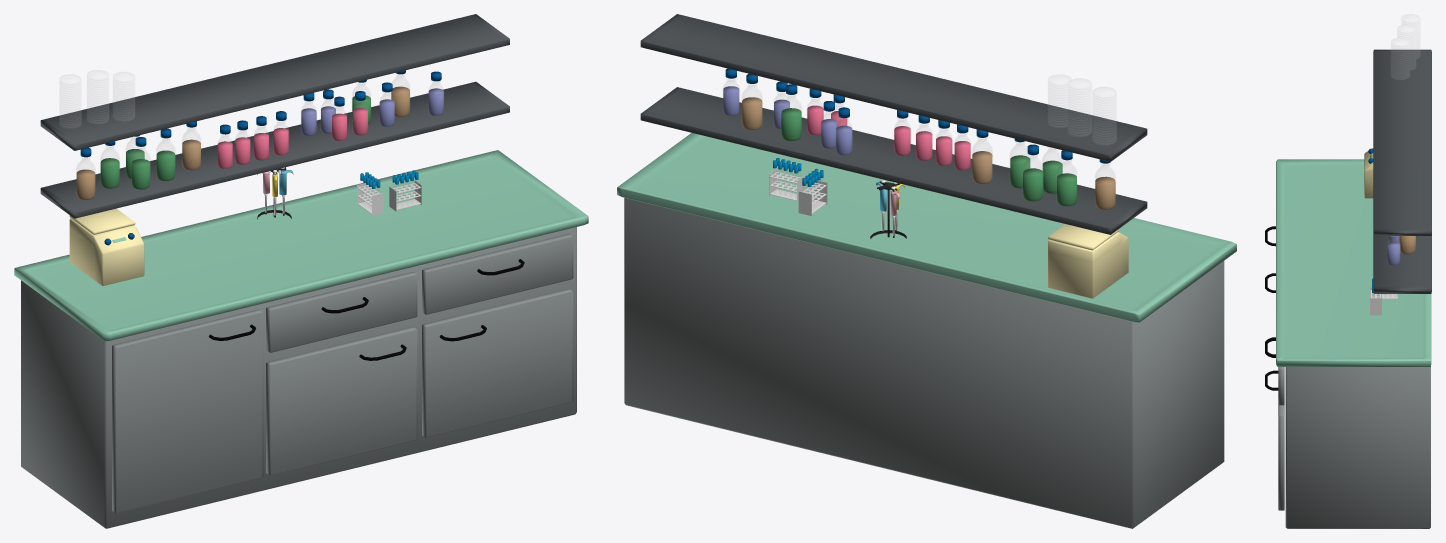
File: lab_bench.glb
3 views of the same model, side by side, from view 1: azimuth 30°, elevation 25°; view 2: azimuth 150°, elevation 25°; view 3: azimuth 270°, elevation 25° (orthographic). The views are drawn at different scales.
Visible parts, largest first — view 1: Torus.000, Torus.004, Torus.002, Cube, Circle.003, Circle.011, Torus.003, Circle.012, inhalt.002, inhalt.005, Icosphere.002, inhalt (+5 smaller); view 2: Torus.000, Torus.004, Torus.002, Cube, Circle.003, Circle.011, Circle.012, Icosphere.002, inhalt.003, inhalt.006, inhalt.007, inhalt.004 (+6 smaller); view 3: Torus.000, Torus.004, Torus.002, Circle.012, Cube, Torus.003, Circle.003, inhalt_klein.001, inhalt.007, Plane.004, Circle.011.
Boxes of the visible parts, <box> form: Torus.000: <box>21,227,576,528</box>; Torus.004: <box>14,150,588,341</box>; Torus.002: <box>40,14,509,218</box>; Cube: <box>69,208,144,285</box>; Circle.003: <box>87,70,108,123</box>; Circle.011: <box>60,75,80,128</box>; Torus.003: <box>209,259,524,360</box>; Circle.012: <box>113,72,134,120</box>; inhalt.002: <box>131,137,150,189</box>; inhalt.005: <box>156,128,175,180</box>; Icosphere.002: <box>257,167,293,219</box>; inhalt: <box>76,147,95,199</box>; Torus.000: <box>624,198,1224,528</box>; Torus.004: <box>617,133,1236,322</box>; Torus.002: <box>640,14,1147,234</box>; Cube: <box>1048,224,1128,298</box>; Circle.003: <box>1068,79,1091,136</box>; Circle.011: <box>1093,87,1116,144</box>; Circle.012: <box>1048,75,1070,127</box>; Icosphere.002: <box>870,180,906,238</box>; inhalt.003: <box>1023,144,1043,201</box>; inhalt.006: <box>781,84,801,140</box>; inhalt.007: <box>742,74,762,129</box>; inhalt.004: <box>972,129,992,183</box>; Torus.000: <box>1278,367,1430,528</box>; Torus.004: <box>1276,159,1431,366</box>; Torus.002: <box>1373,49,1431,293</box>; Circle.012: <box>1391,38,1409,79</box>; Cube: <box>1364,148,1373,198</box>; Torus.003: <box>1265,226,1278,390</box>; Circle.003: <box>1397,25,1415,69</box>; inhalt_klein.001: <box>1387,236,1400,265</box>; inhalt.007: <box>1399,236,1415,254</box>; Plane.004: <box>1370,287,1381,315</box>; Circle.011: <box>1402,14,1419,58</box>.
Bounding box in the file's own units: 2.62 × 2.01 × 0.9176.
